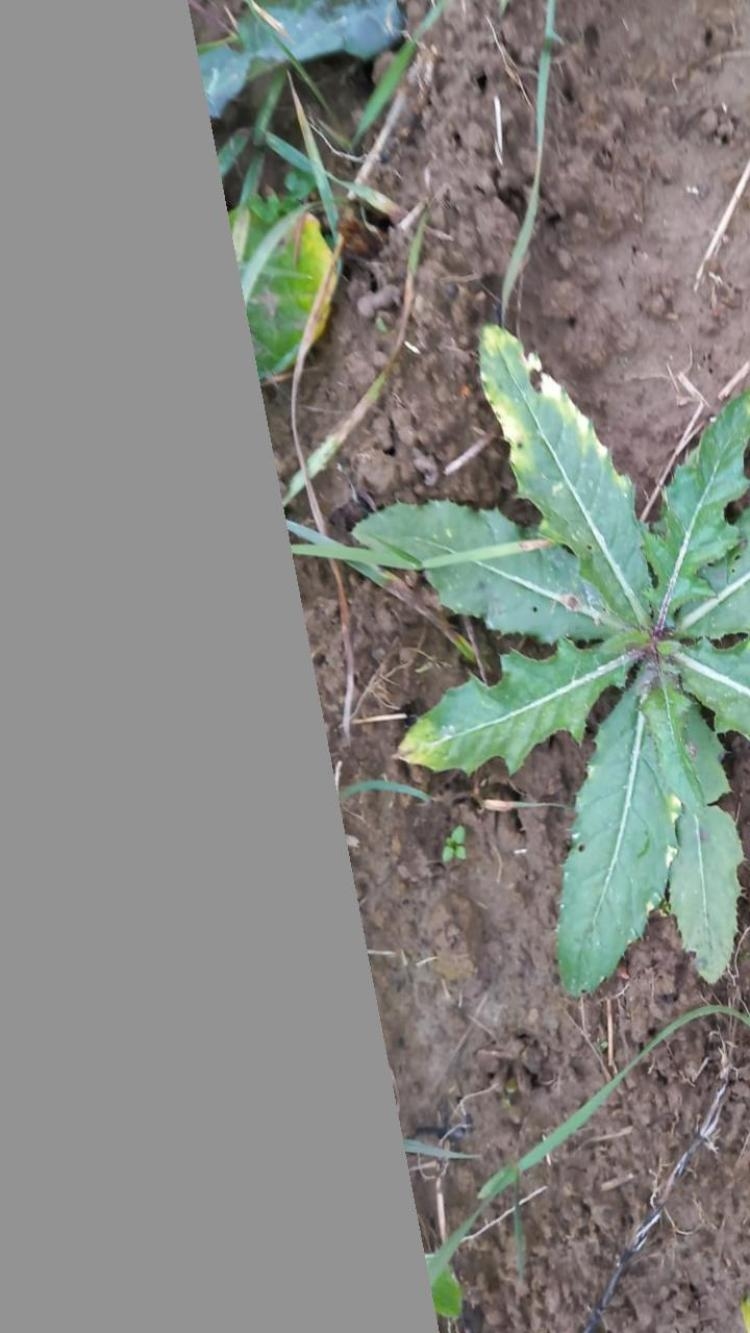osot: (350, 316, 750, 1002)
